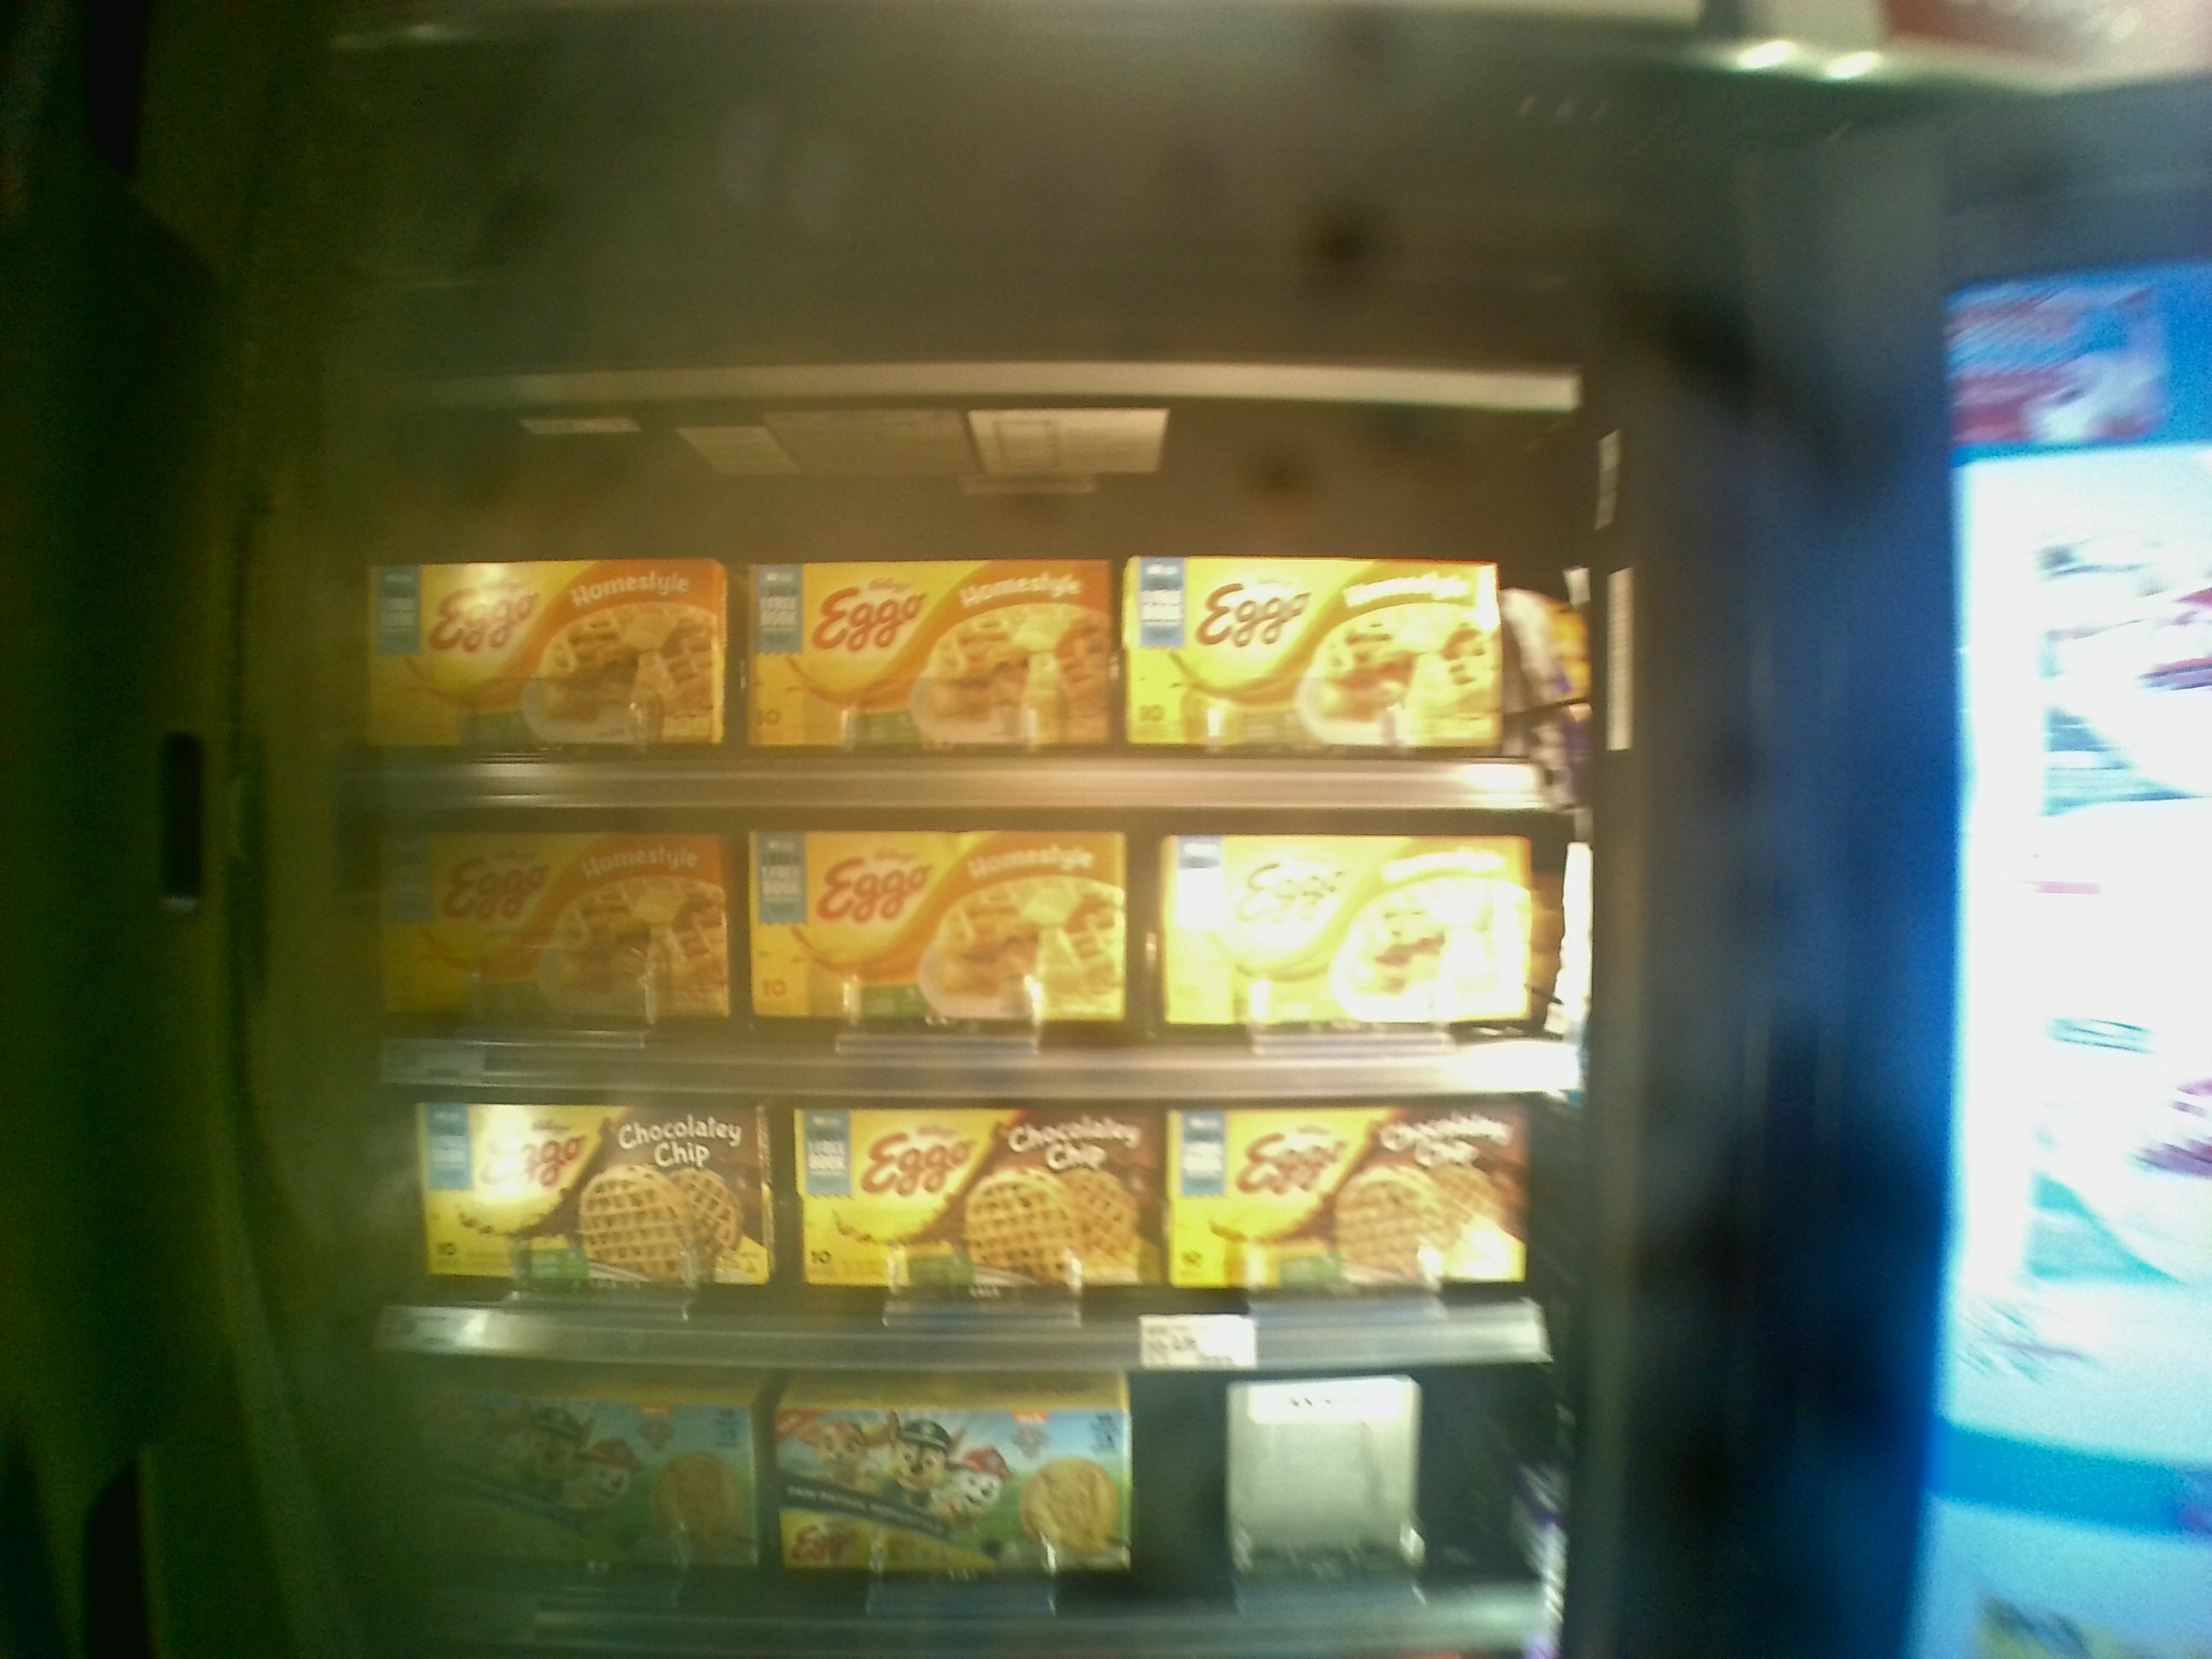shelf: (354, 373, 1576, 809), (364, 791, 1594, 1098), (374, 1082, 1550, 1366)
